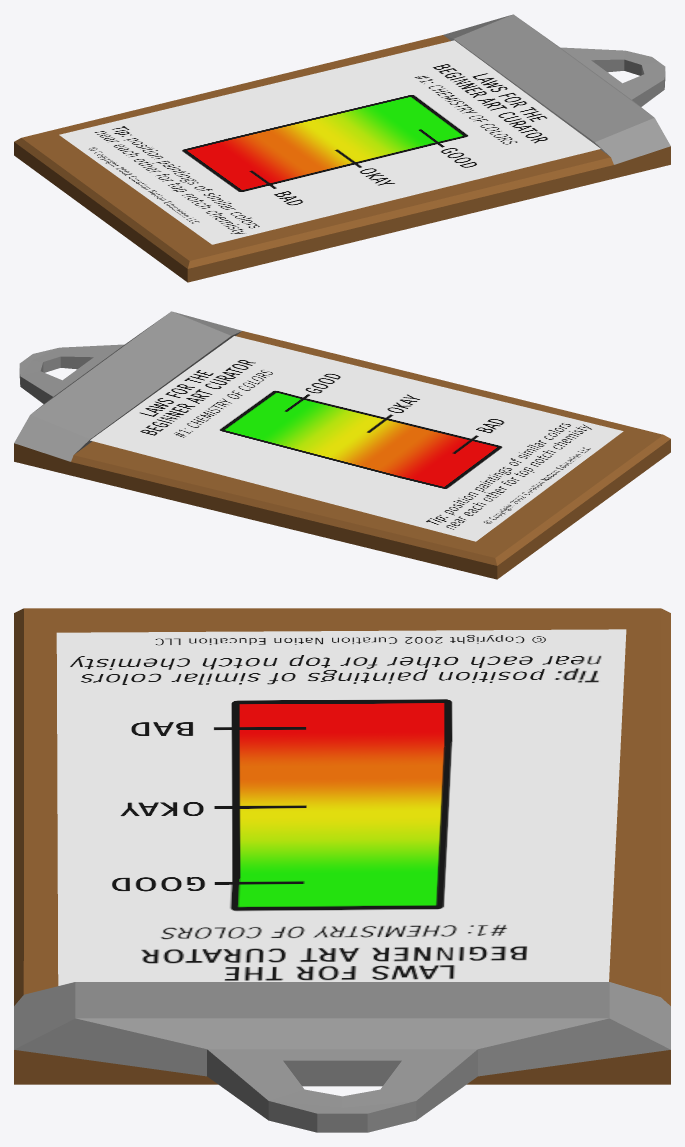
The model's file is ClipBoard_Page_1.fbx.
The picture shows the model from 3 angles, top to bottom: view 1: azimuth 30°, elevation 25°; view 2: azimuth 150°, elevation 25°; view 3: azimuth 270°, elevation 25°; orthographic projection. The views are drawn at different scales.
Visible parts, largest first — view 1: Plane.389; view 2: Plane.389; view 3: Plane.389.
Boxes of the visible parts, x1,y1,x2,y2 form: Plane.389: [14, 14, 670, 282]; Plane.389: [14, 311, 670, 579]; Plane.389: [14, 608, 670, 1132].
Bounding box in the file's own units: 50.37 × 3.03 × 27.17.
